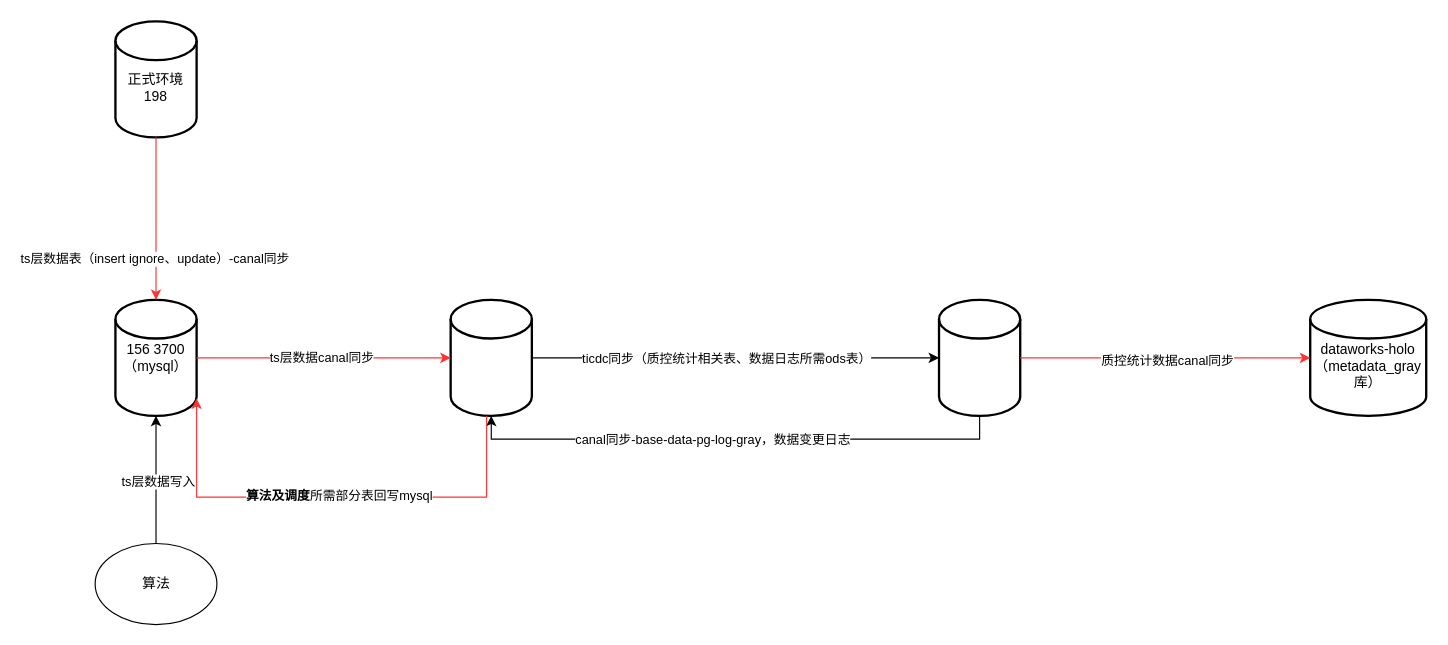
This 1448x645 diagram has some shape labels left out. Each missing label, with the centre of its shape:
"156 3306 （数据集成-mysql库）" goes at (979,357).
"灰度tidb" goes at (490,357).
